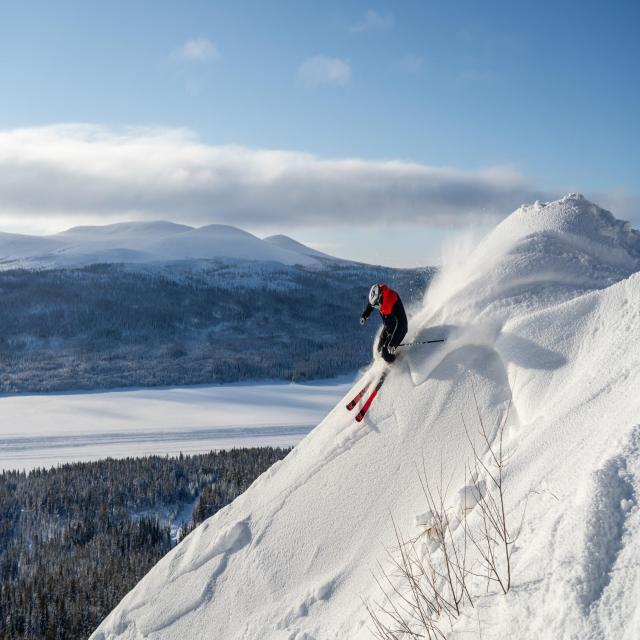skier: (331, 280, 454, 426)
